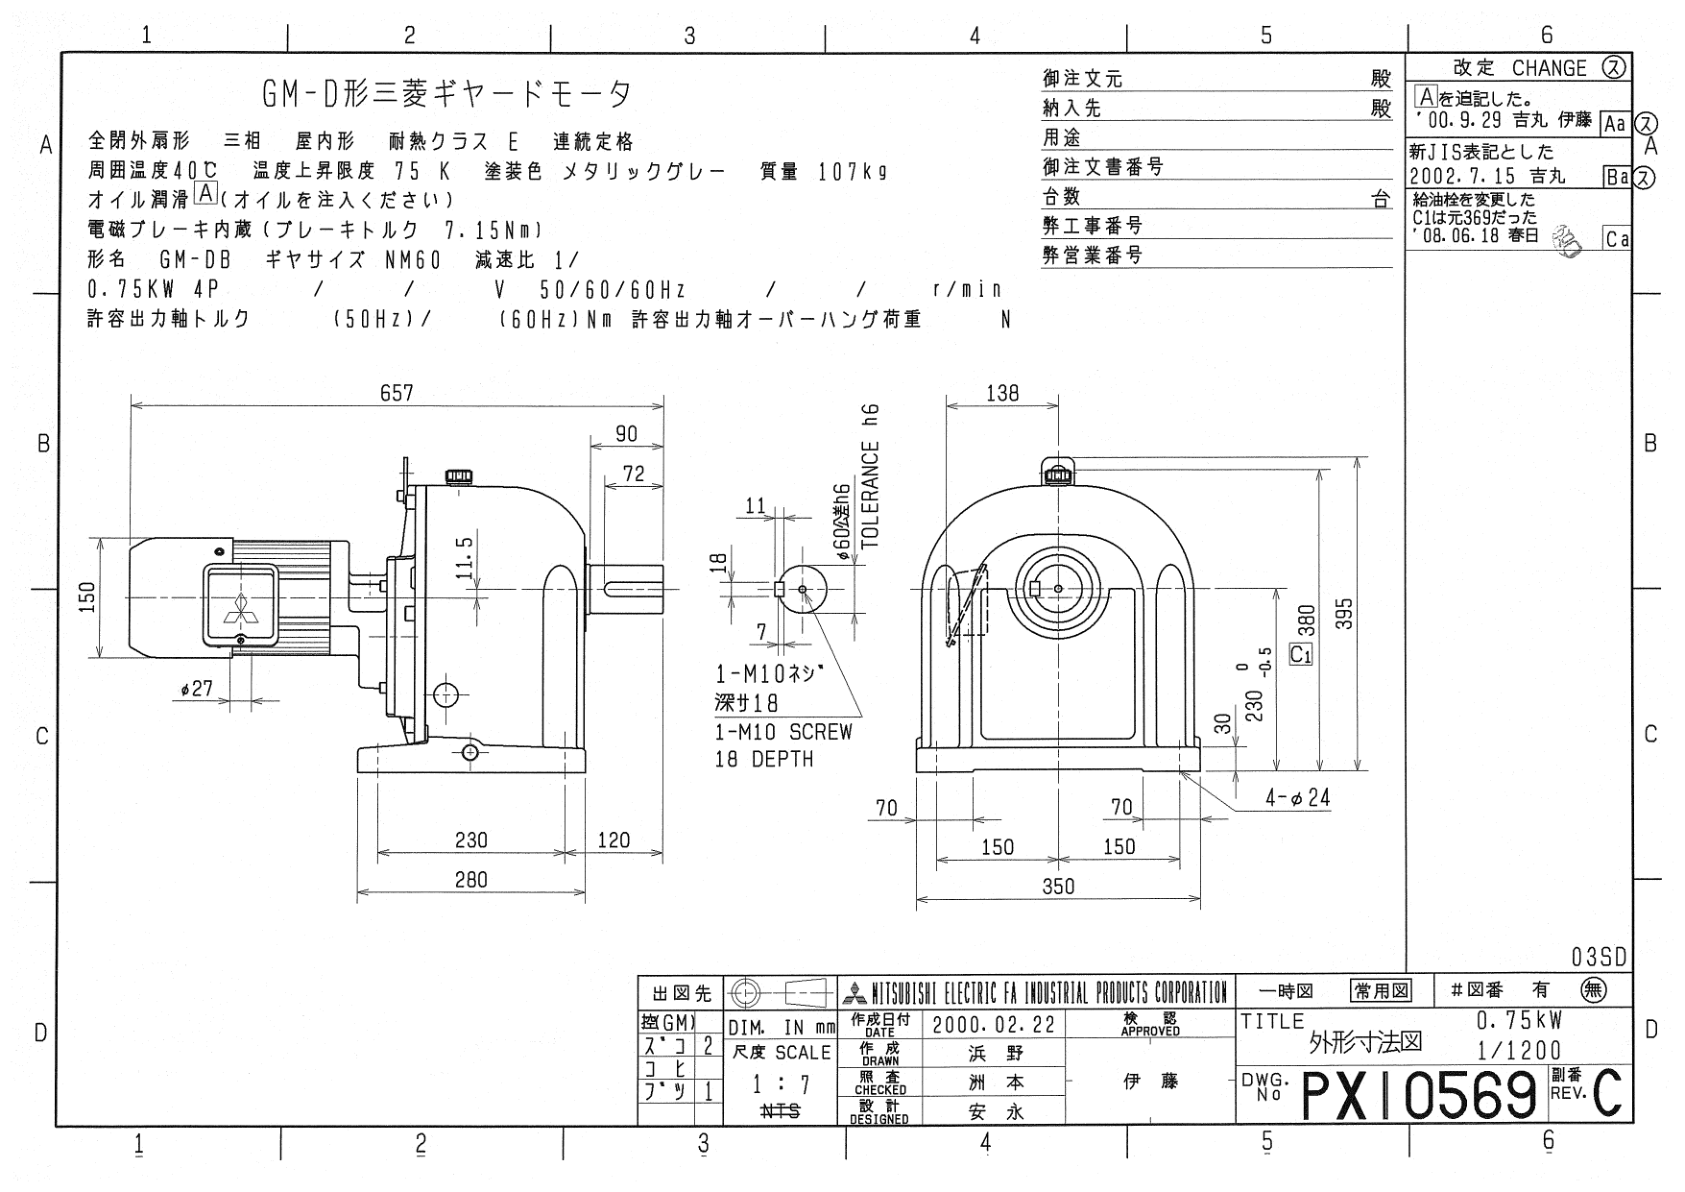GM_D_屋内＿三相_脚: (1, 1, 1679, 1189)
